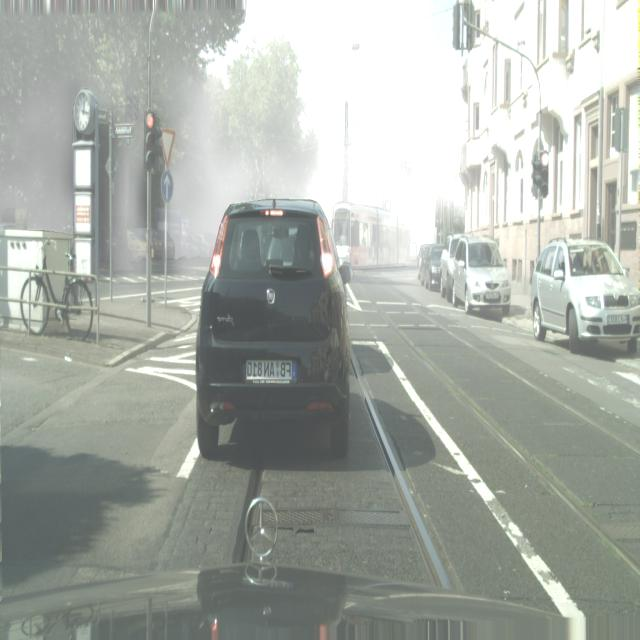car: (19, 238, 95, 339)
truck: (195, 199, 352, 460), (530, 237, 640, 356), (451, 235, 512, 319), (127, 227, 176, 264), (439, 234, 465, 300), (426, 243, 445, 291), (417, 244, 432, 284)
